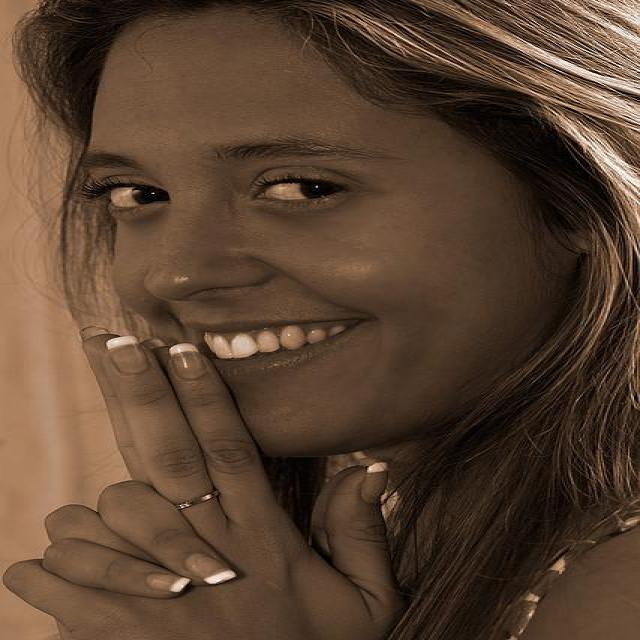no-glass: (99, 162, 352, 234)
